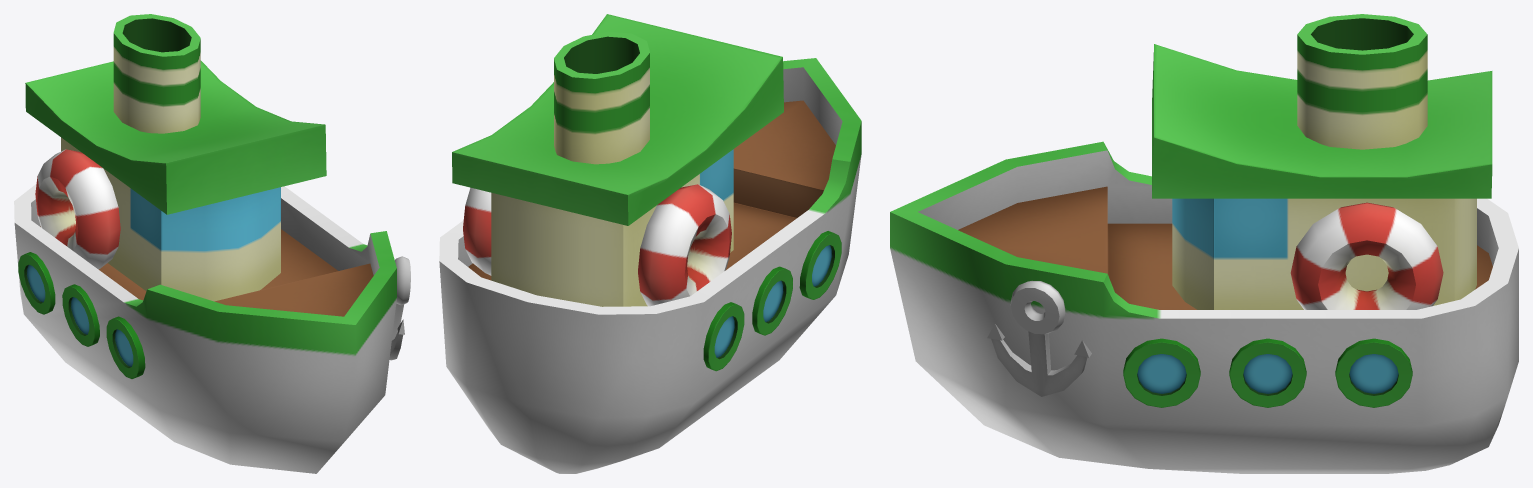
File: ship.FBX
The picture shows the model from 3 angles, left to right: view 1: azimuth 30°, elevation 25°; view 2: azimuth 150°, elevation 25°; view 3: azimuth 270°, elevation 25°; orthographic projection. The views are drawn at different scales.
Visible parts, largest first — view 1: ship; view 2: ship; view 3: ship.
Boxes of the visible parts, x1,y1,x2,y2 form: ship: [14, 14, 410, 473]; ship: [439, 14, 861, 473]; ship: [890, 14, 1518, 473].
Size of the model in its own units: 26.44 by 36.42 by 48.51.
